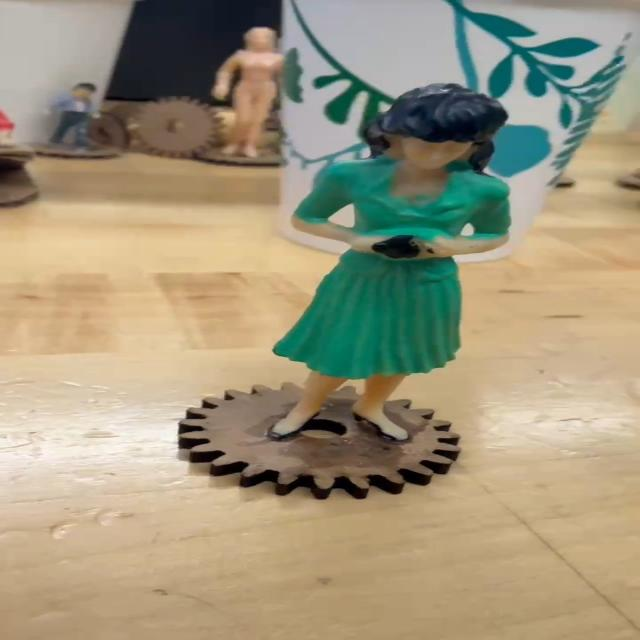Authorized: (240, 67, 550, 500)
